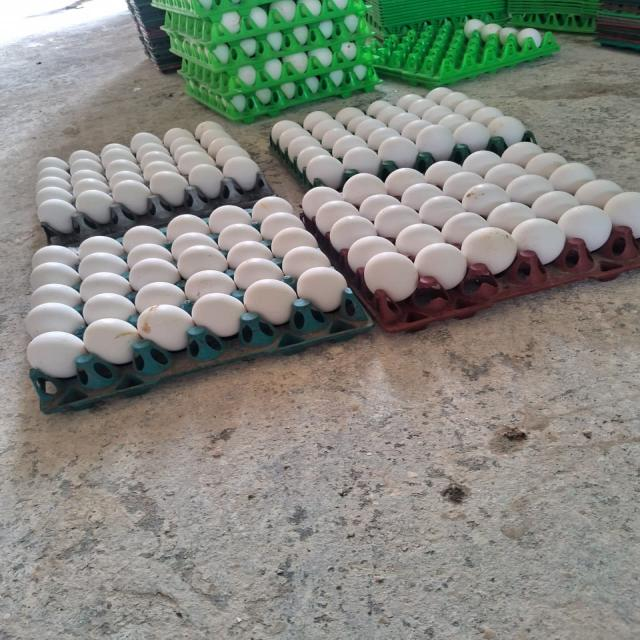egg_tray: (25, 197, 372, 412), (303, 142, 639, 331), (36, 122, 273, 245), (271, 87, 534, 189), (167, 0, 379, 122), (42, 172, 273, 246), (165, 0, 370, 79), (181, 36, 373, 104), (374, 19, 559, 86), (185, 65, 381, 123), (163, 0, 366, 54), (367, 0, 508, 39), (370, 0, 506, 28), (127, 0, 179, 72), (508, 0, 599, 33), (463, 19, 545, 47), (509, 7, 596, 33), (509, 0, 599, 24), (596, 2, 639, 50), (152, 0, 238, 18), (211, 47, 227, 64), (243, 42, 260, 57), (243, 0, 263, 7), (239, 70, 249, 76), (227, 55, 234, 63), (155, 0, 163, 5), (625, 2, 633, 6), (629, 2, 632, 5), (347, 51, 349, 53), (618, 4, 619, 6), (174, 16, 175, 18), (620, 3, 622, 3)
